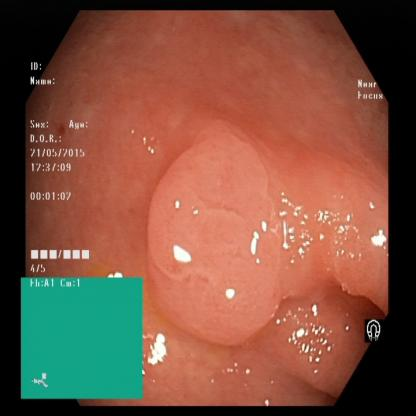Labels: (29, 58, 99, 278), (22, 277, 142, 399), (353, 72, 391, 111), (352, 314, 386, 348)
Polyps: (142, 148, 294, 334)
